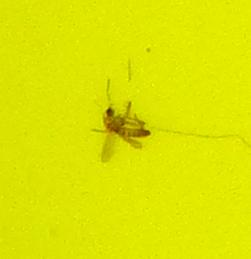Nematocera: (100, 100, 151, 159)
